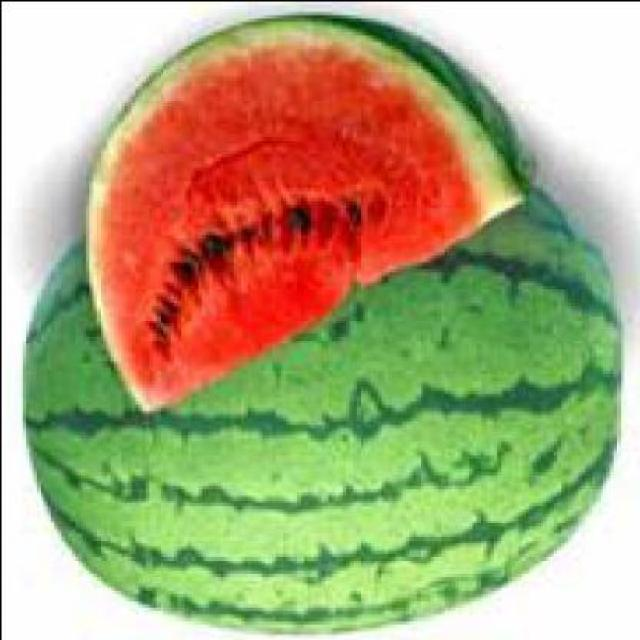BIODEGRADABLE: (23, 188, 622, 632), (86, 13, 528, 415)
